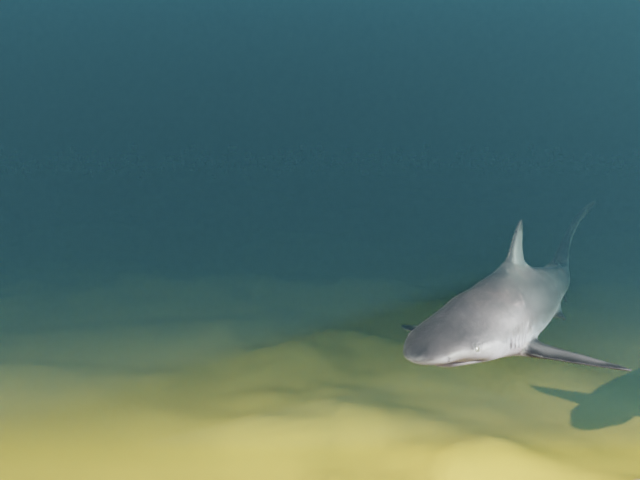Carribean Shark.001: (400, 200, 632, 370)
